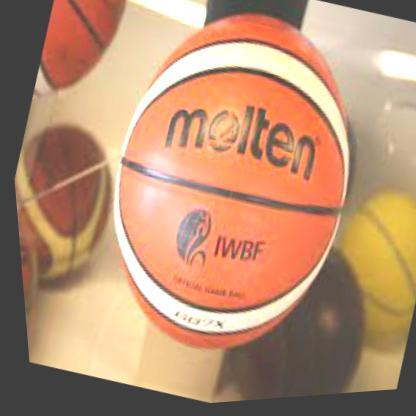basketball: (61, 0, 398, 387)
